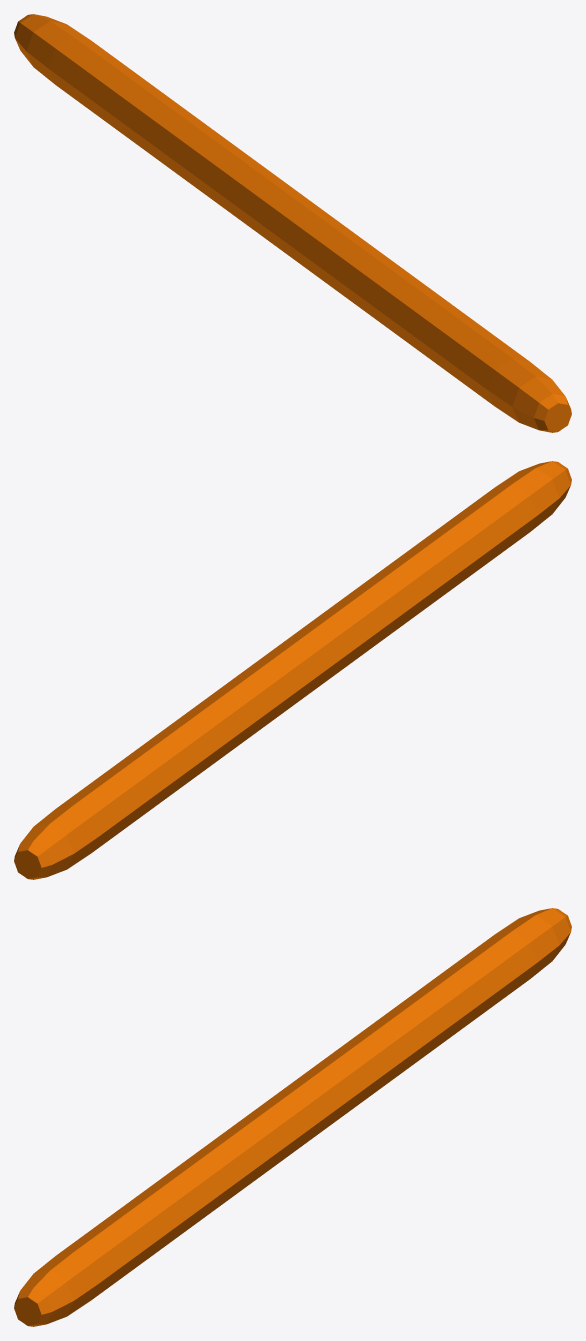
The model's file is Bolt.fbx.
The picture shows the model from 3 angles, top to bottom: view 1: azimuth 30°, elevation 25°; view 2: azimuth 150°, elevation 25°; view 3: azimuth 330°, elevation 25°; orthographic projection.
Visible parts, largest first — view 1: Bolt; view 2: Bolt; view 3: Bolt.
Part boxes in pixels (x1,y1,x2,y2): Bolt: [14, 14, 571, 432]; Bolt: [14, 461, 571, 879]; Bolt: [14, 908, 571, 1326].
Bounding box in the file's own units: 0.048 × 0.8928 × 0.048.
